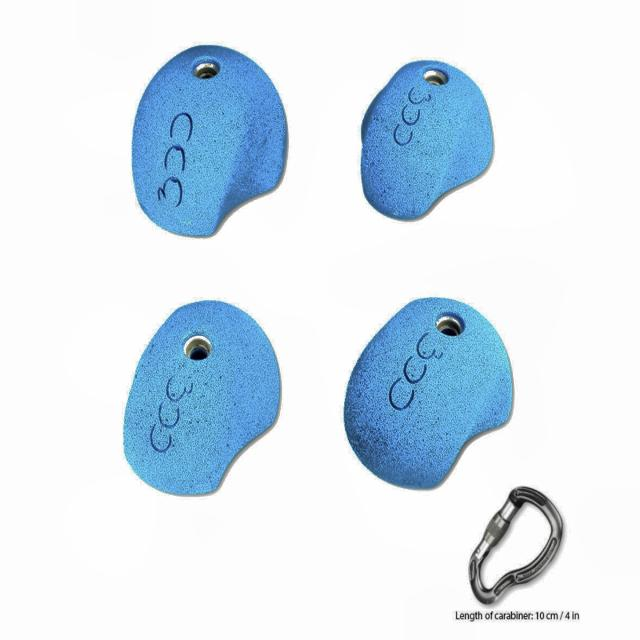Hold: (340, 293, 524, 488), (125, 299, 283, 497), (133, 45, 290, 242), (358, 51, 494, 220)
